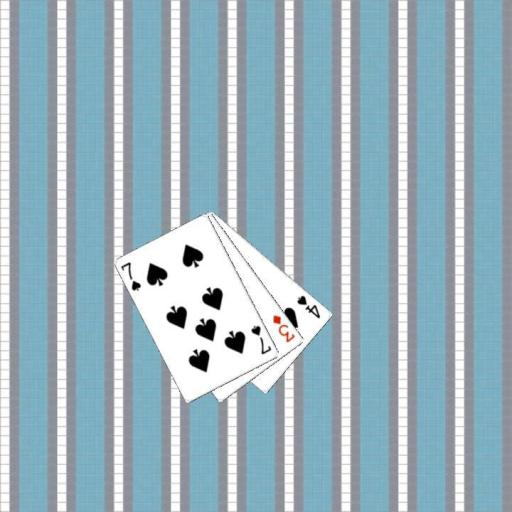3D: (270, 312, 297, 344)
4S: (295, 292, 322, 320)
7S: (248, 322, 273, 356), (118, 259, 143, 292)
